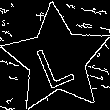L_NW: (33, 30, 80, 89)
